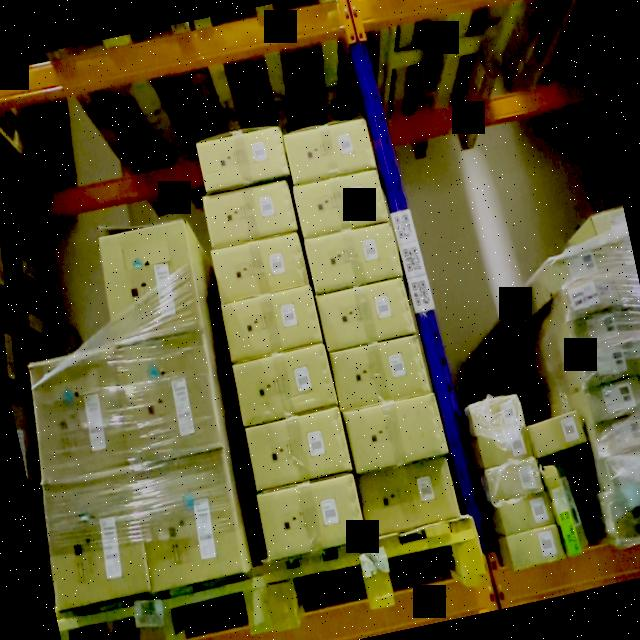box: (133, 446, 243, 589), (42, 468, 151, 609), (116, 331, 220, 468), (27, 347, 130, 483), (99, 219, 198, 342), (256, 474, 365, 559), (243, 406, 352, 491), (231, 343, 337, 426), (343, 392, 449, 473), (356, 456, 460, 536), (222, 285, 322, 363), (330, 335, 431, 412), (303, 223, 403, 296), (315, 278, 414, 351), (210, 230, 307, 303), (292, 169, 389, 239), (203, 180, 298, 250), (195, 126, 290, 195), (282, 117, 376, 184), (552, 456, 587, 549), (543, 464, 579, 554), (578, 340, 639, 389), (568, 305, 628, 351), (584, 377, 640, 426), (507, 524, 566, 569), (564, 272, 620, 318), (529, 411, 585, 457), (498, 491, 554, 537), (486, 458, 543, 502), (468, 393, 521, 436), (478, 426, 531, 467), (556, 247, 606, 286), (593, 419, 640, 458), (604, 454, 640, 492)
